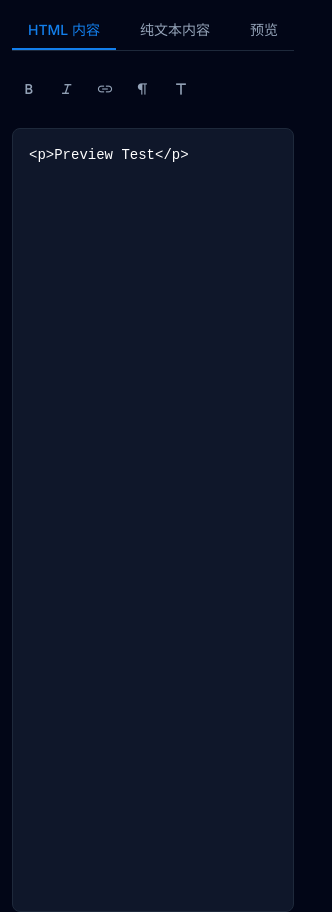
it: EmailTemplateEditor Component › should show preview with HTML content
The image size is (332, 912).
Click the button "预览": [264, 31] box x1=234 y1=12 x2=294 y2=50
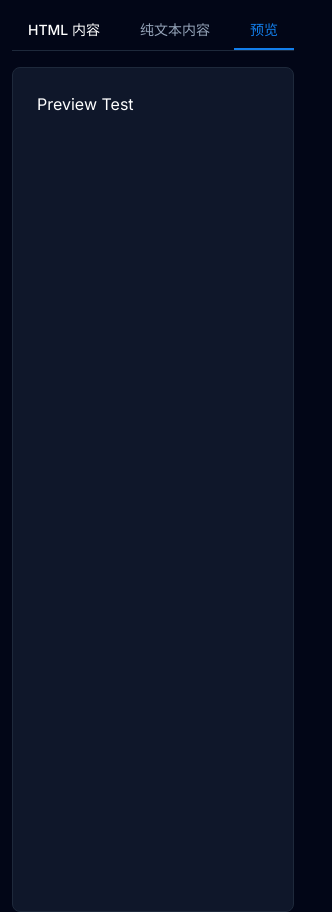
Expected: the text "Preview Test" is shown, x1=37 y1=94 x2=134 y2=114
